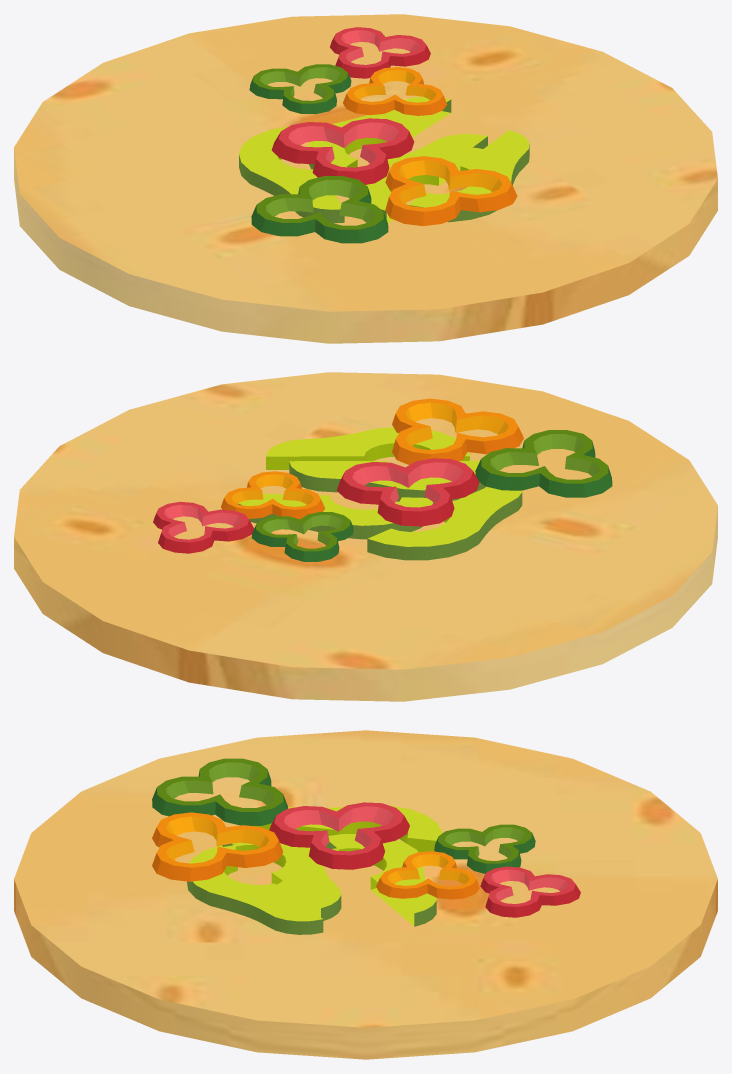
Rendered from taco_Aguacate_Pimiento.glb.
3 views of the same model, one above another, from view 1: azimuth 30°, elevation 25°; view 2: azimuth 150°, elevation 25°; view 3: azimuth 270°, elevation 25° (orthographic).
Visible parts, largest first — view 1: tortilla.002, Pepper_Slice_Pepper_0, Avocado_Slice_Avocado_0, Pepper_Slice_Pepper_0.001; view 2: tortilla.002, Pepper_Slice_Pepper_0, Avocado_Slice_Avocado_0, Pepper_Slice_Pepper_0.001; view 3: tortilla.002, Pepper_Slice_Pepper_0, Avocado_Slice_Avocado_0, Pepper_Slice_Pepper_0.001.
Boxes of the visible parts, x1,y1,x2,y2 form: tortilla.002: [14, 14, 717, 343]; Pepper_Slice_Pepper_0: [251, 118, 517, 243]; Avocado_Slice_Avocado_0: [239, 97, 529, 223]; Pepper_Slice_Pepper_0.001: [249, 27, 447, 115]; tortilla.002: [14, 372, 717, 701]; Pepper_Slice_Pepper_0: [337, 398, 612, 526]; Avocado_Slice_Avocado_0: [238, 427, 522, 560]; Pepper_Slice_Pepper_0.001: [153, 471, 353, 561]; tortilla.002: [14, 730, 717, 1059]; Pepper_Slice_Pepper_0: [152, 758, 409, 881]; Avocado_Slice_Avocado_0: [187, 805, 442, 934]; Pepper_Slice_Pepper_0.001: [376, 824, 580, 917].
Size of the model in its own units: 0.2118 by 0.023 by 0.2118.
Materials: 3 (3 with a texture image).
